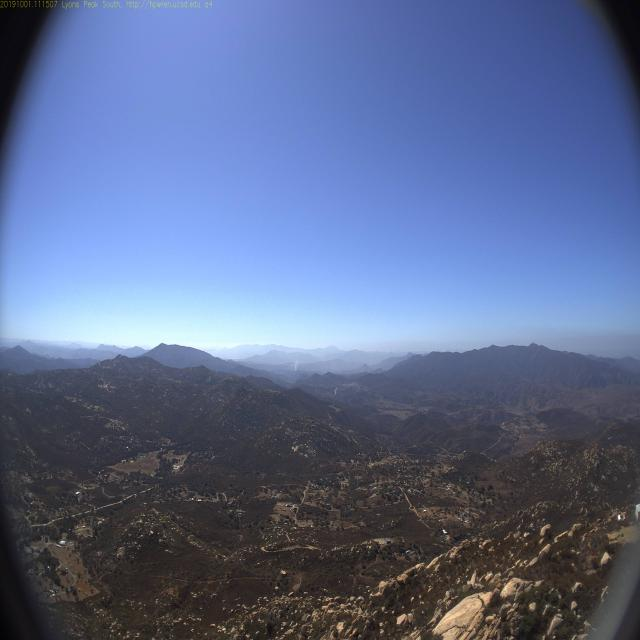smoke: (288, 355, 303, 377)
